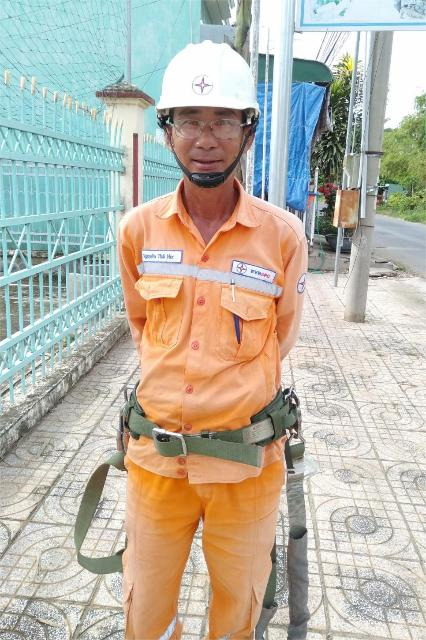harness: (95, 373, 310, 480)
helmet: (140, 25, 293, 144)
